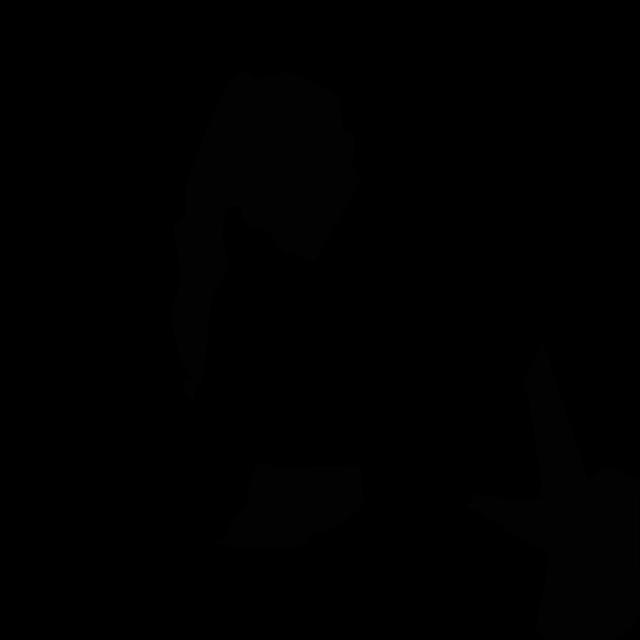cardboard: (170, 71, 360, 401), (466, 345, 640, 640), (214, 463, 364, 548), (589, 468, 640, 572)
